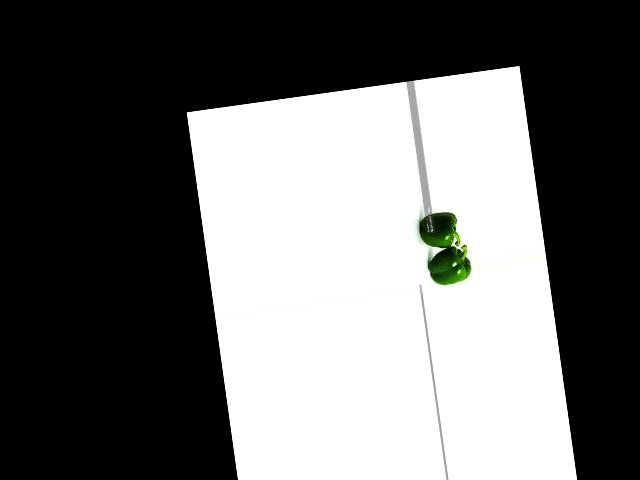bell_pepper: (420, 244, 475, 287)
